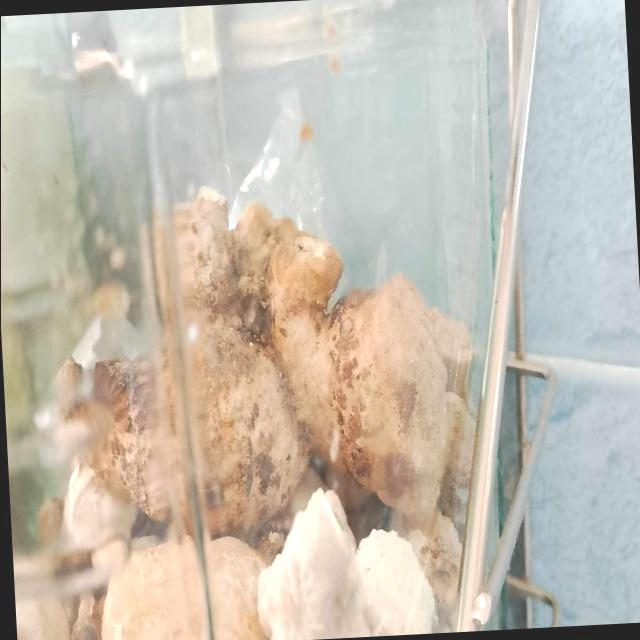General: (24, 185, 481, 638)
Sharps: (449, 2, 549, 631), (141, 93, 219, 640)
